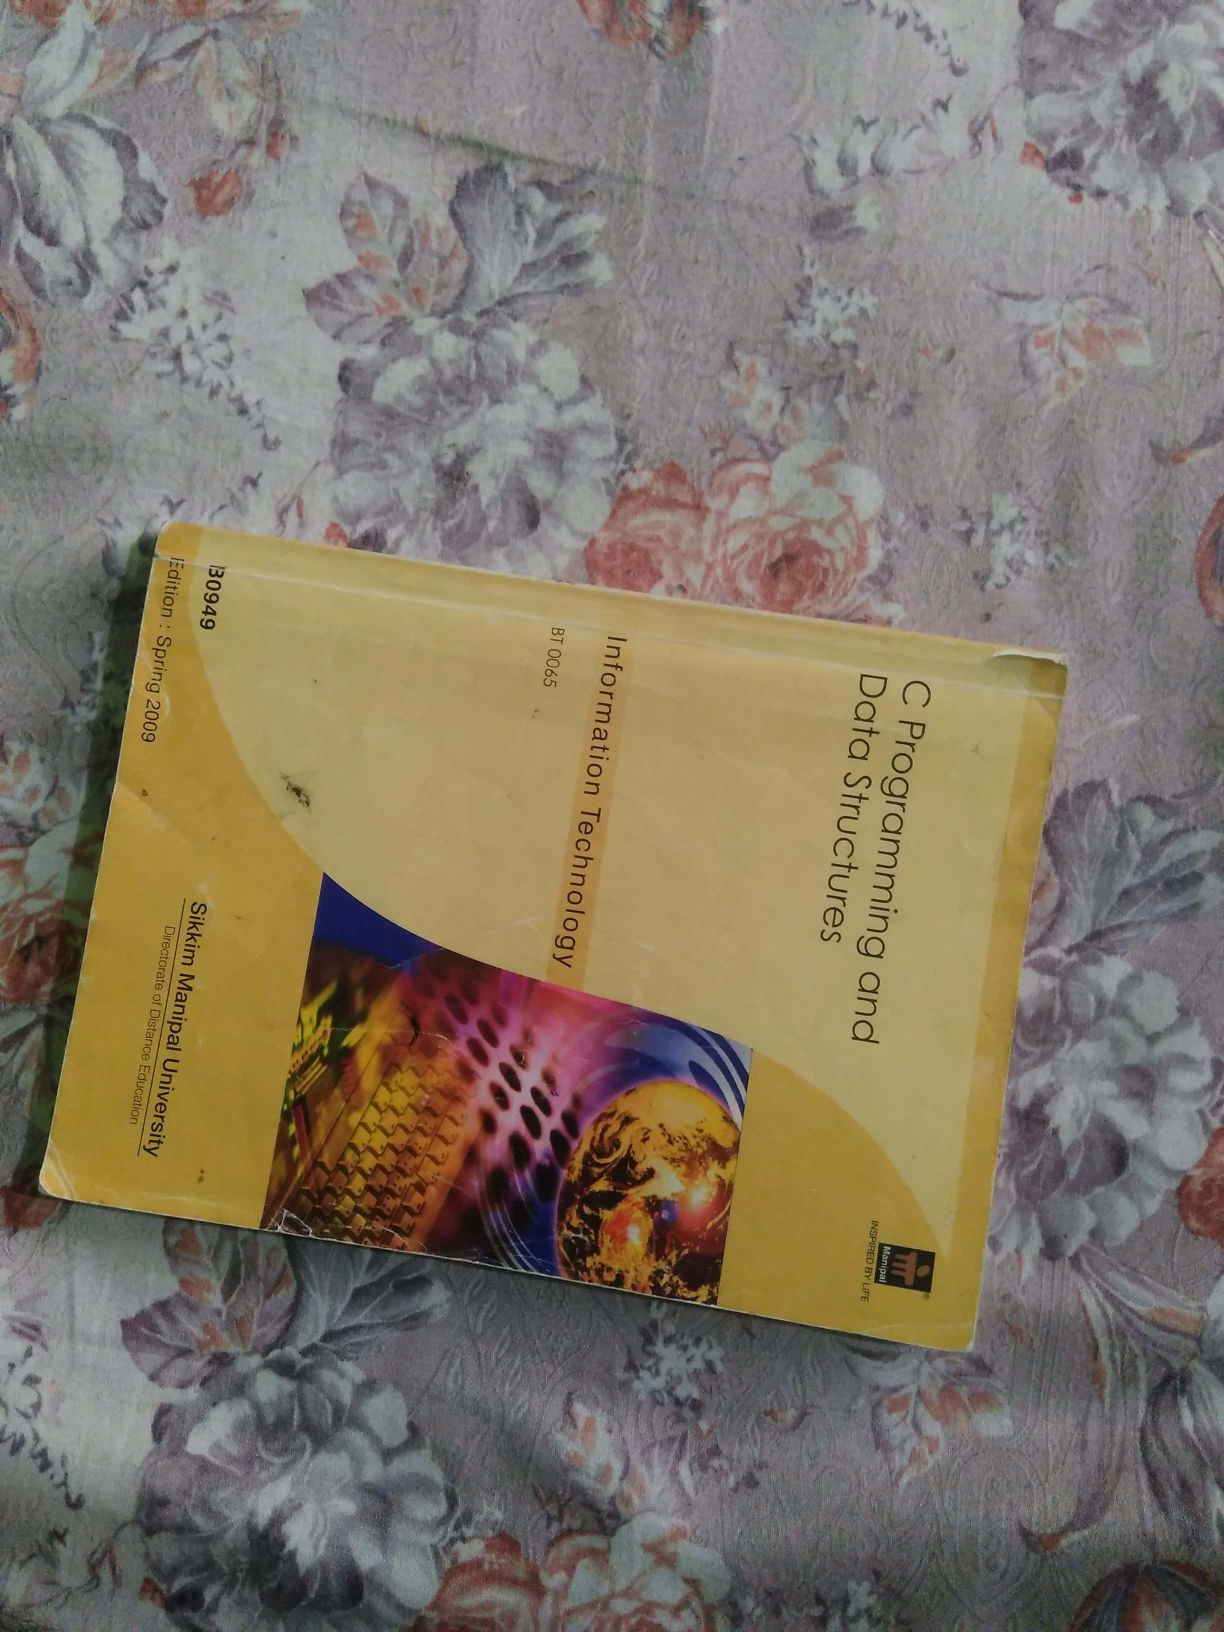clang: (58, 497, 1081, 1392)
